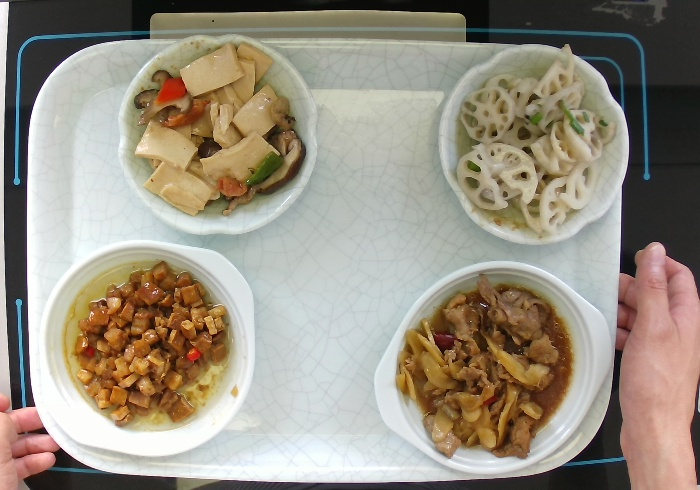JYsf-Ao_Yuan_Wan: (113, 29, 324, 240), (433, 40, 634, 249)
JYsf-Shuang_Er_Pan: (369, 256, 618, 479), (36, 235, 259, 461)
